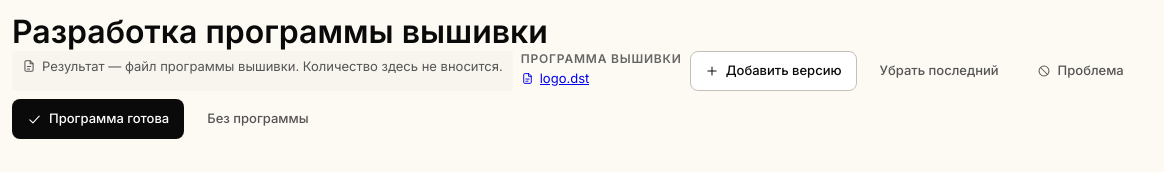
Scenario: StageActionsPanel — фаза программы вышивки › после перехода фокус на заголовке этапа, status «Программа готова — этап «Вышивка»», при несданном крое — «Вышивка ждёт сдачи кроя»
Click the button "Программа готова": click(98, 119) [12,99,184,139]
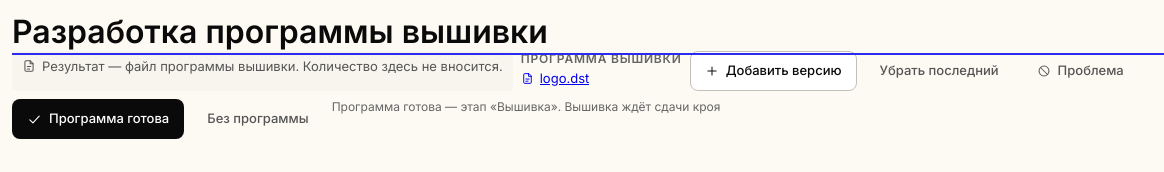
Expected: the message shows "Программа готова — этап «Вышивка»", [332,99,720,114]
Expected: the message shows "Вышивка ждёт сдачи кроя", [332,99,720,114]
